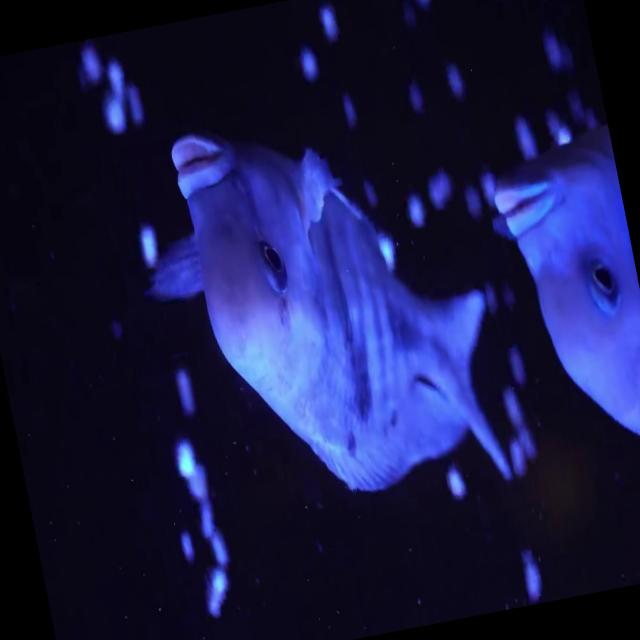fish: (113, 64, 529, 562), (483, 129, 640, 494)
